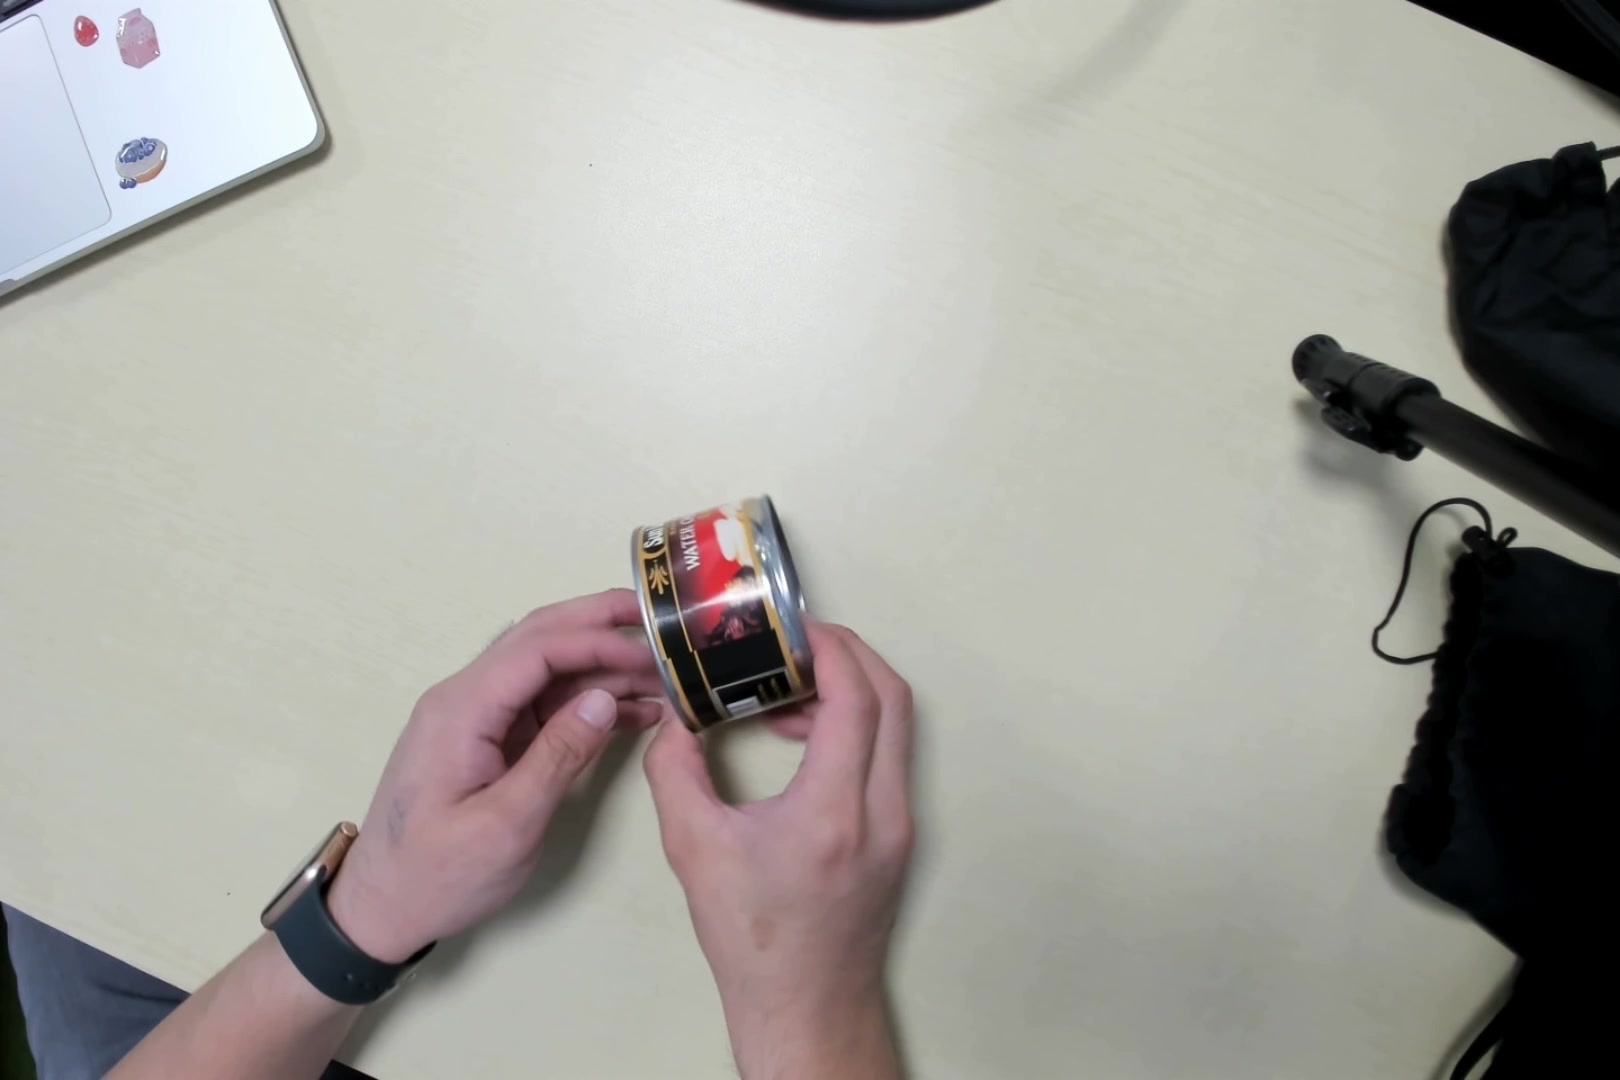CannedVegetarianFood_100-199g_Halal_NonHealthy: (629, 505, 821, 720)
